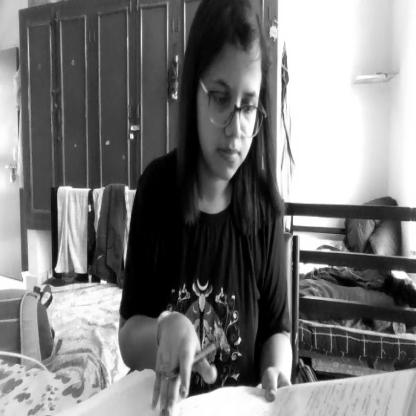Distracted: (191, 2, 270, 190)
